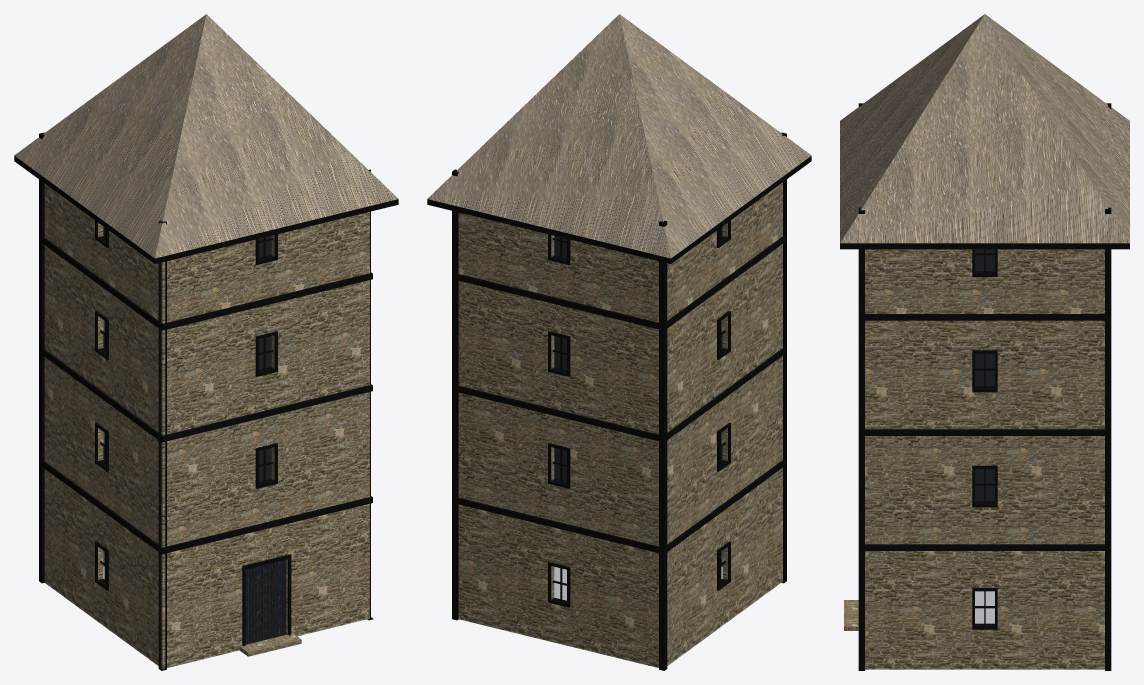
File: stone_tower_01.glb
3 views of the same model, side by side, from view 1: azimuth 30°, elevation 25°; view 2: azimuth 150°, elevation 25°; view 3: azimuth 270°, elevation 25° (orthographic). The views are drawn at different scales.
Parts seen in each view (by area): view 1: stone_tower_01; view 2: stone_tower_01; view 3: stone_tower_01.
Part boxes in pixels (x1,y1,x2,y2): stone_tower_01: (14,14,398,670); stone_tower_01: (427,14,811,670); stone_tower_01: (840,14,1129,670).
Size of the model in its own units: 7.3 by 16.77 by 7.3.
5 materials, 4 textured.
